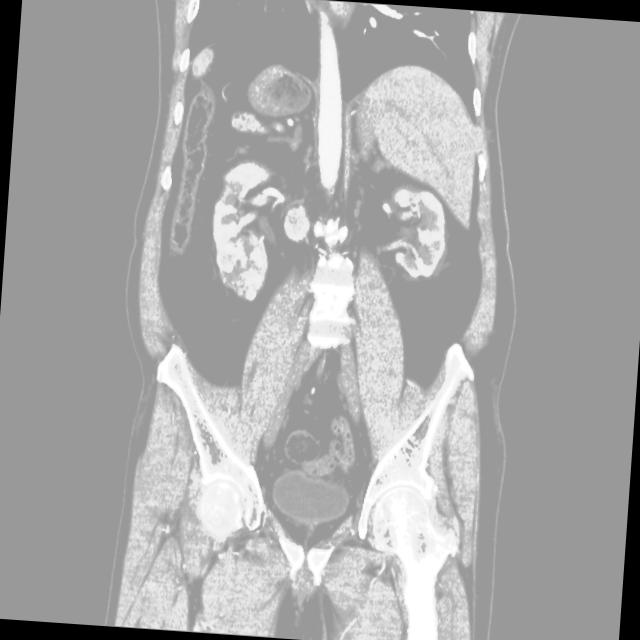TUMOR: (141, 121, 518, 325)
